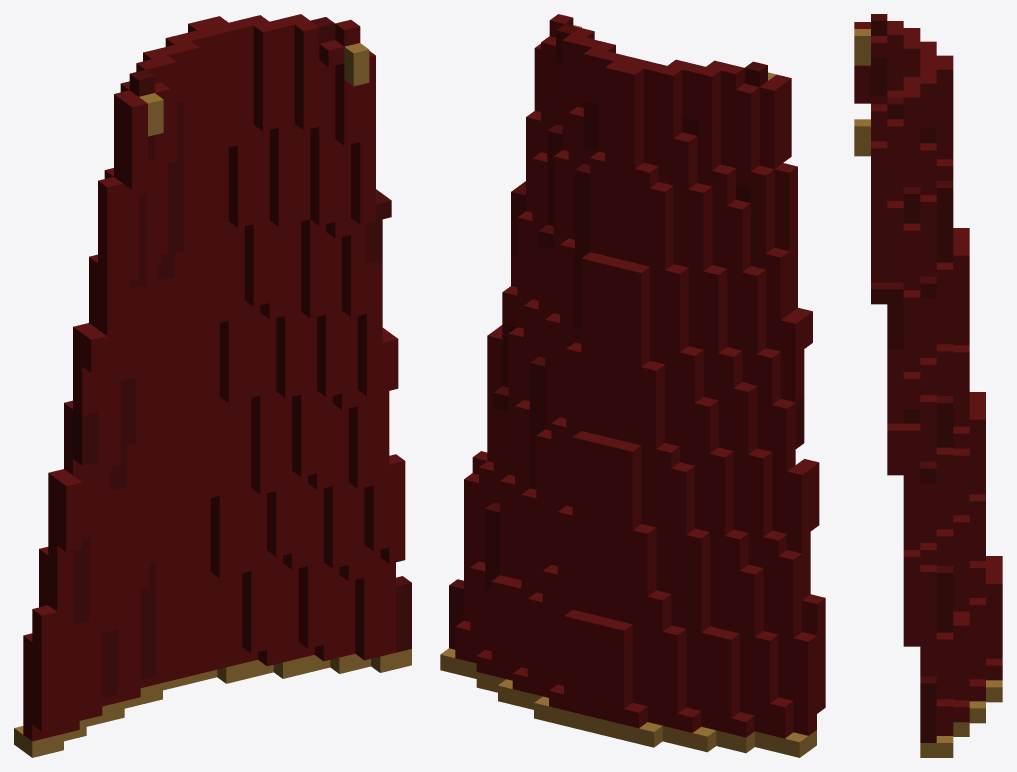
File: chain_rare_cloak_lod1.glb
3 renders of one model, left to right at view 1: azimuth 30°, elevation 25°; view 2: azimuth 150°, elevation 25°; view 3: azimuth 270°, elevation 25°, orthographic. The views are drawn at different scales.
Parts seen in each view (by area): view 1: chain_rare_cloak_lod1; view 2: chain_rare_cloak_lod1; view 3: chain_rare_cloak_lod1.
Part boxes in pixels (x1,y1,x2,y2): chain_rare_cloak_lod1: [14, 14, 411, 757]; chain_rare_cloak_lod1: [440, 14, 825, 757]; chain_rare_cloak_lod1: [854, 14, 1002, 757].
Size of the model in its own units: 0.576 by 0.984 by 0.216.
